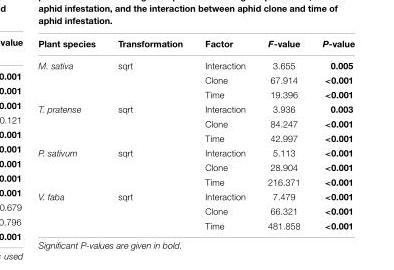table: (37, 37, 354, 230)
table column: (106, 37, 193, 230), (37, 37, 106, 230), (193, 37, 255, 230), (255, 37, 310, 230), (310, 37, 354, 230)
table column header: (37, 37, 354, 53)
table row: (37, 53, 354, 72), (37, 37, 354, 53), (37, 86, 354, 101), (37, 115, 354, 130), (37, 130, 354, 145), (37, 159, 354, 174), (37, 188, 354, 203), (37, 72, 354, 86), (37, 101, 354, 115), (37, 145, 354, 159), (37, 174, 354, 188), (37, 203, 354, 217), (37, 217, 354, 230)
table spanning cell: (37, 53, 106, 101), (37, 101, 106, 145), (37, 145, 106, 188), (37, 188, 106, 230)
